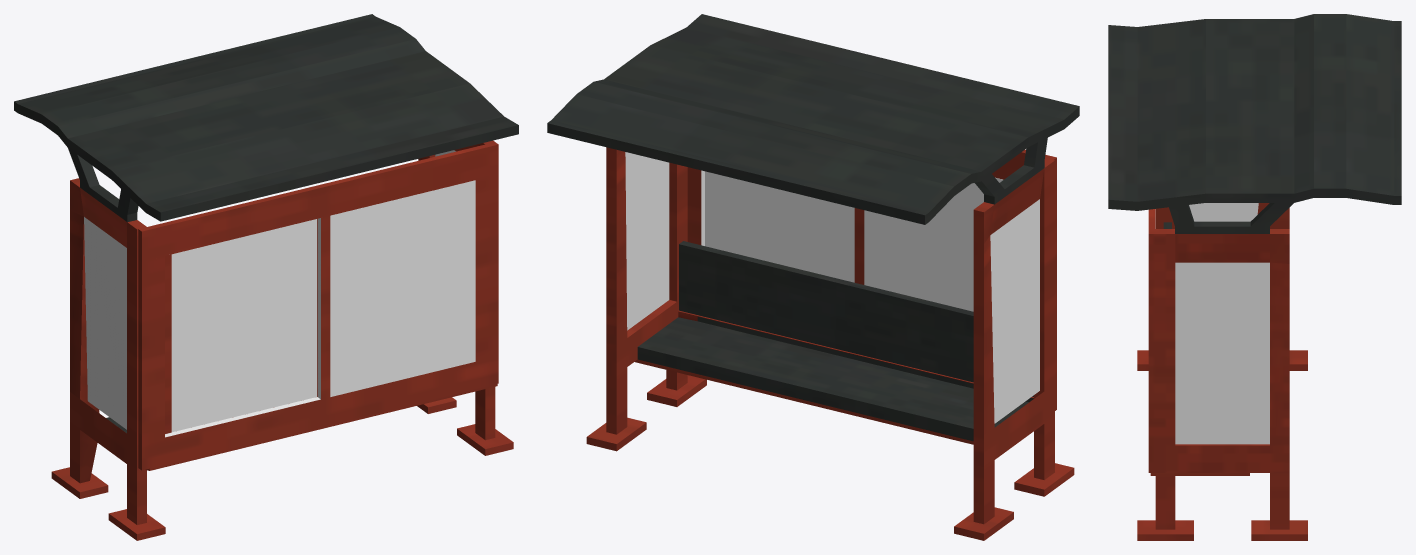
The model's file is BLOCKYGON_BUS STATION.fbx.
3 views of the same model, side by side, from view 1: azimuth 30°, elevation 25°; view 2: azimuth 150°, elevation 25°; view 3: azimuth 270°, elevation 25° (orthographic). The views are drawn at different scales.
Parts seen in each view (by area): view 1: BLOCKYGON_BUS_STATION; view 2: BLOCKYGON_BUS_STATION; view 3: BLOCKYGON_BUS_STATION.
Part boxes in pixels (left/top/right/bottom): BLOCKYGON_BUS_STATION: left=14, top=14, right=518, bottom=540; BLOCKYGON_BUS_STATION: left=547, top=14, right=1079, bottom=540; BLOCKYGON_BUS_STATION: left=1108, top=14, right=1401, bottom=540.
Size of the model in its own units: 261 by 230 by 176.
Materials: 2 (1 with a texture image).
